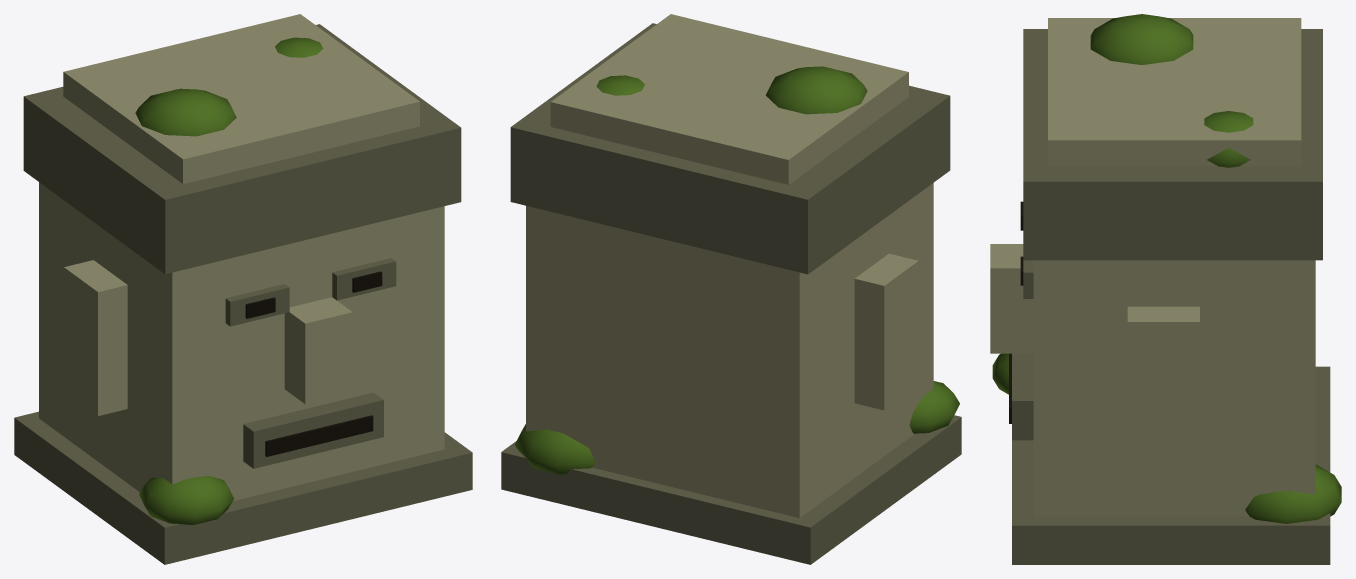
Rendered from jg_stone_idol.glb.
3 renders of one model, left to right at view 1: azimuth 30°, elevation 25°; view 2: azimuth 150°, elevation 25°; view 3: azimuth 270°, elevation 25°, orthographic. The views are drawn at different scales.
Parts seen in each view (by area): view 1: jg_stone_idol; view 2: jg_stone_idol; view 3: jg_stone_idol.
Part boxes in pixels (x1,y1,x2,y2): jg_stone_idol: [14, 14, 472, 564]; jg_stone_idol: [501, 14, 961, 564]; jg_stone_idol: [990, 14, 1341, 564].
Size of the model in its own units: 2.8 by 3.25 by 2.43.
